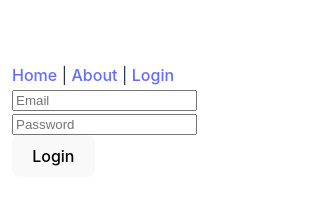
Test: logs out the user and redirects to home
Step 1. Type "user@gmail.com" into the field with placeholder "Email" → (104, 101), box top-left (12, 90), bottom-right (197, 111)
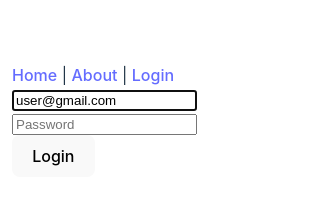
Step 2. Type "p@ssword" into the password field with placeholder "Password" → (104, 125), box top-left (12, 114), bottom-right (197, 135)
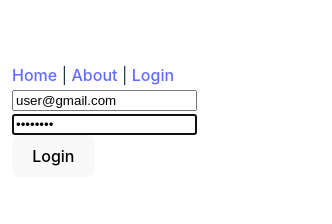
Step 3. Click the button "Login" → (53, 156), box top-left (12, 135), bottom-right (95, 177)
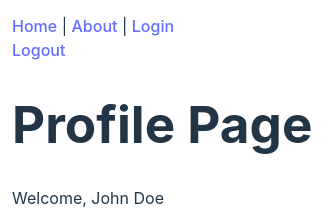
Now the heading "Profile Page" is shown, box top-left (12, 96), bottom-right (312, 152)
Step 4. Click the link "Logout" → (39, 50), box top-left (12, 40), bottom-right (65, 60)
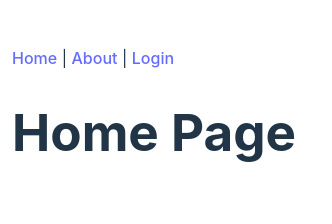
Now the heading "Home Page" is shown, box top-left (12, 104), bottom-right (296, 160)
